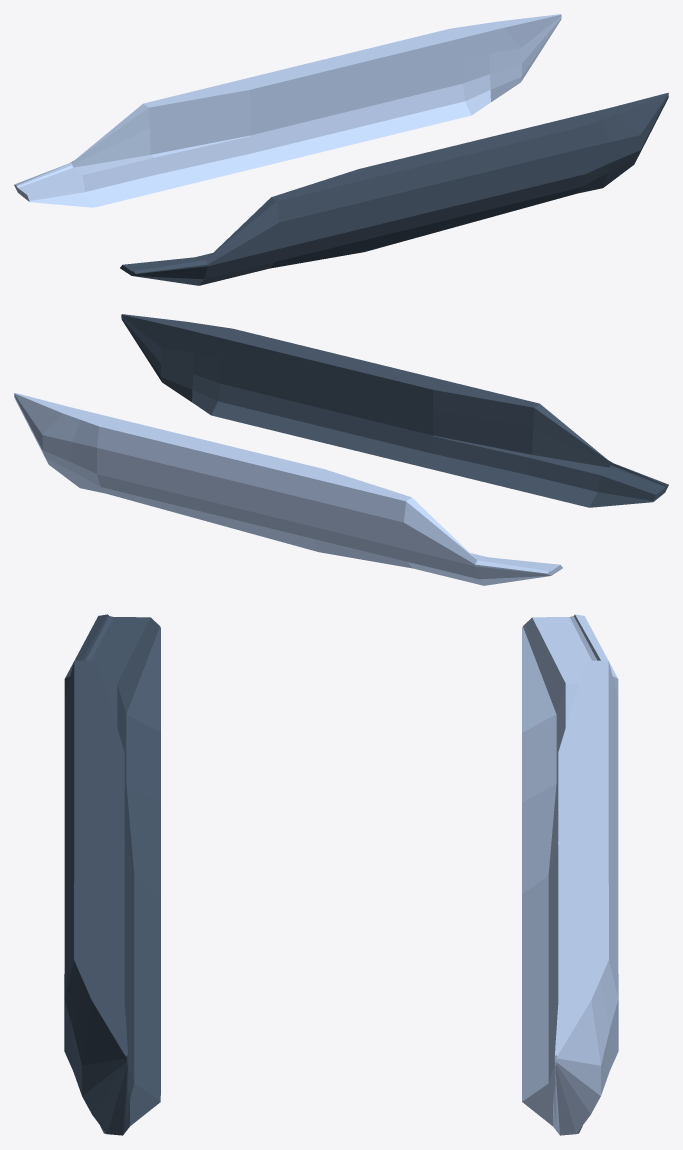
3 renders of one model, top to bottom at view 1: azimuth 30°, elevation 25°; view 2: azimuth 150°, elevation 25°; view 3: azimuth 270°, elevation 25°, orthographic. The views are drawn at different scales.
Visible parts, largest first — view 1: 立方体.024, 立方体.015; view 2: 立方体.015, 立方体.024; view 3: 立方体.024, 立方体.015.
Boxes of the visible parts, bbox=[...] form: 立方体.024: bbox=[14, 14, 561, 207]; 立方体.015: bbox=[120, 93, 668, 285]; 立方体.015: bbox=[121, 314, 668, 507]; 立方体.024: bbox=[14, 393, 562, 585]; 立方体.024: bbox=[522, 614, 618, 1135]; 立方体.015: bbox=[64, 614, 160, 1135].
Bounding box in the file's own units: 8.26 × 1.15 × 3.67.
